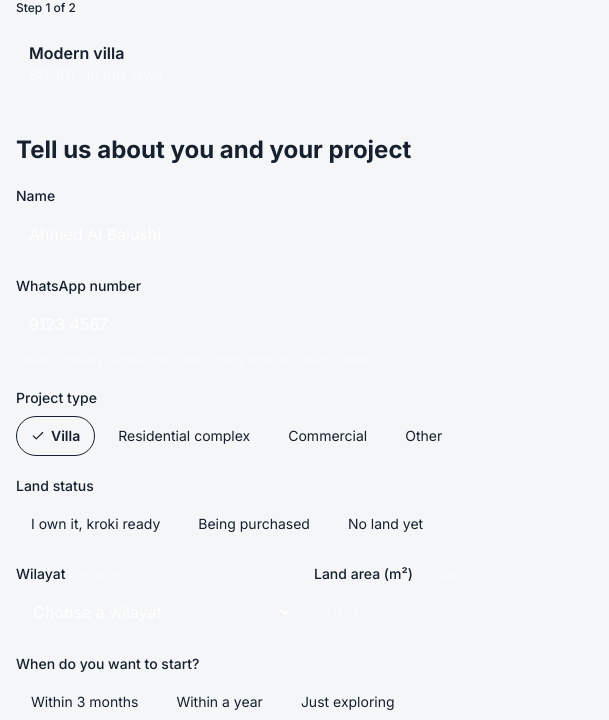
a time taken meanwhile: the visitor is told, the times are reloaded, the same request key is reused
This screenshot has width=609, height=720.
Earlier steps of the test are not shown.
Later steps or results of the test are not shown.
Click the radio button labelled "I own it, kroki ready" at (96, 524), box [16, 504, 175, 544]
(page scrolled)
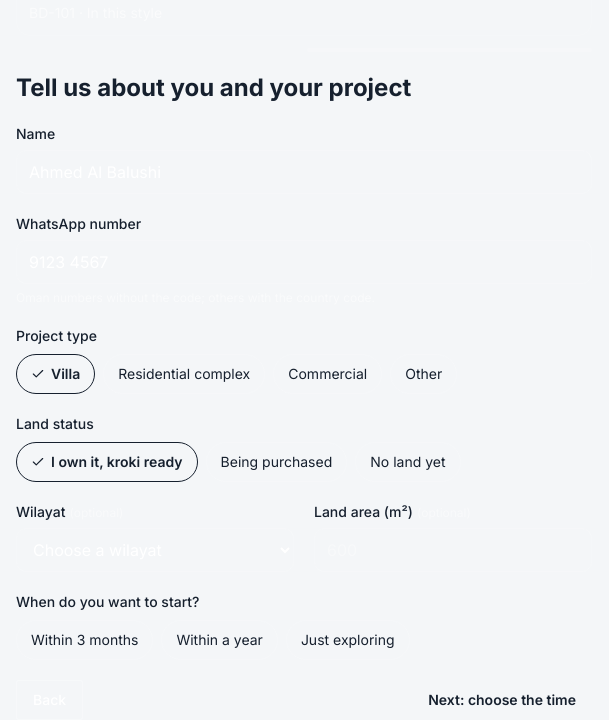
Click the radio button labelled "Within 3 months" at (85, 640), box [16, 620, 153, 660]
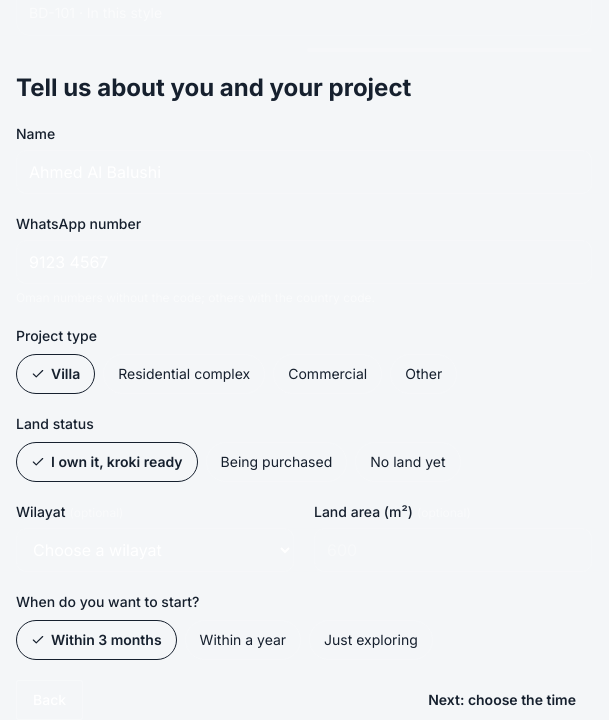
Click the button "Next: choose the time" at (502, 700), box [412, 680, 592, 719]
(page scrolled)
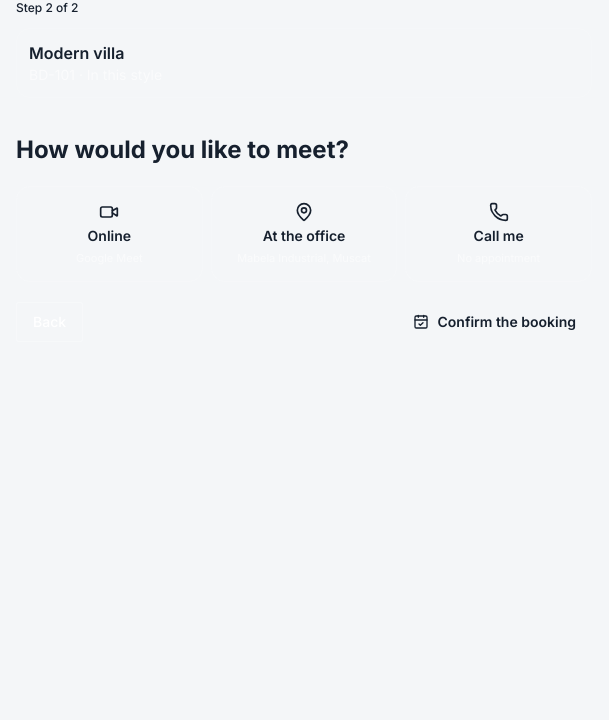
Click the radio button labelled "At the office Mabela Industrial, Muscat" at (304, 234), box [211, 186, 397, 282]
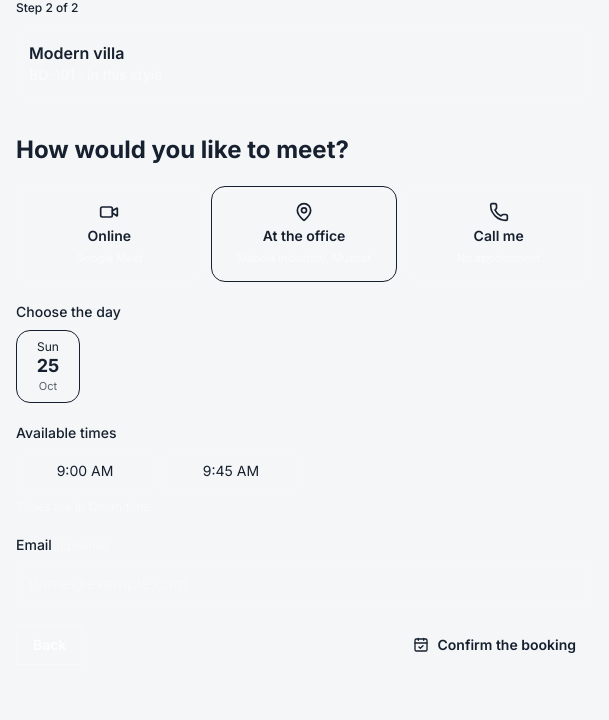
Click the radio button labelled "9:45 AM" at (231, 471), box [162, 451, 300, 491]
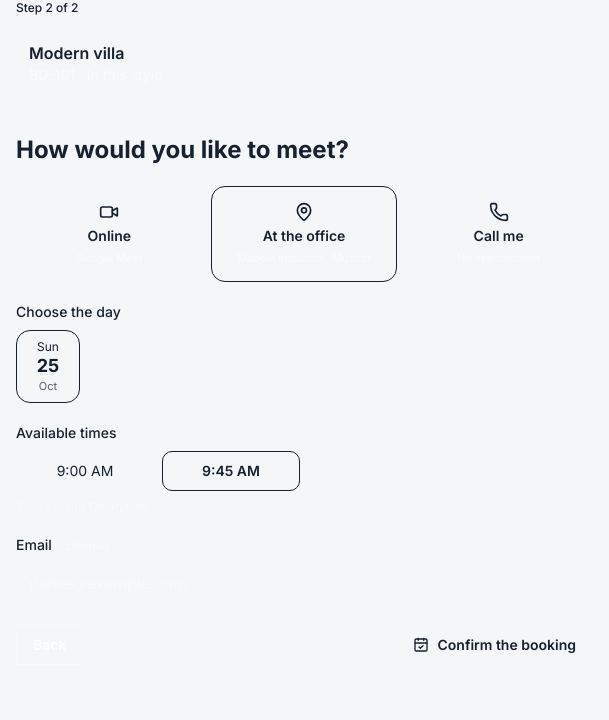
Click the button "Confirm the booking" at (495, 645), box [398, 625, 592, 665]
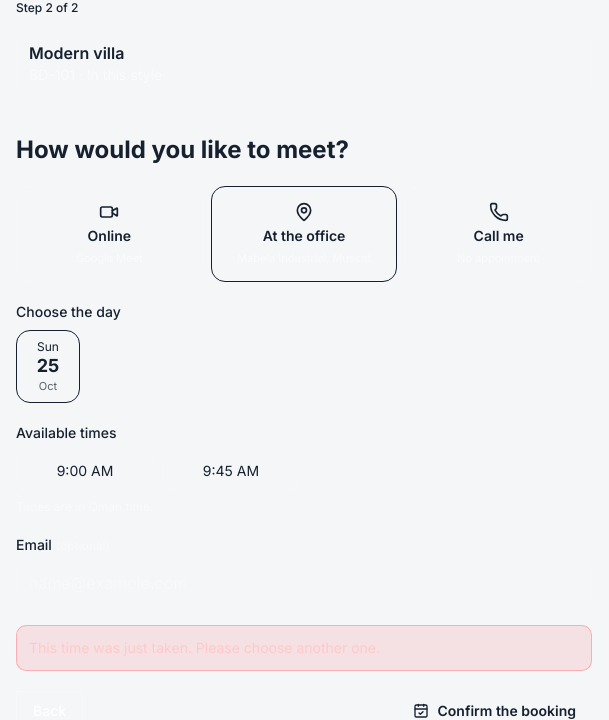
Expected: the text "This time was just taken" is shown, [29, 639, 380, 656]
